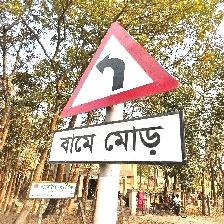Left-Turn: (51, 19, 186, 167)
